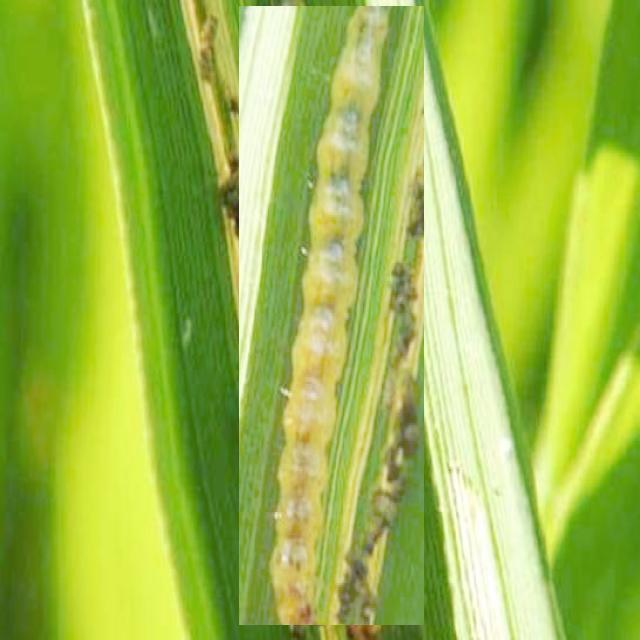leaf-folder: (239, 6, 424, 625)
